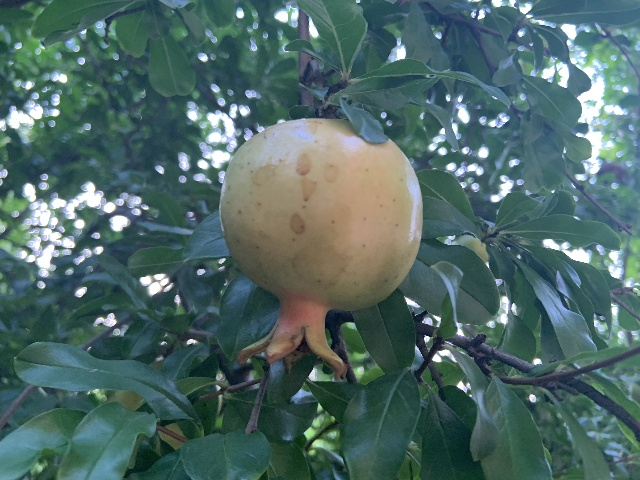mid-growth: (220, 117, 422, 377)
